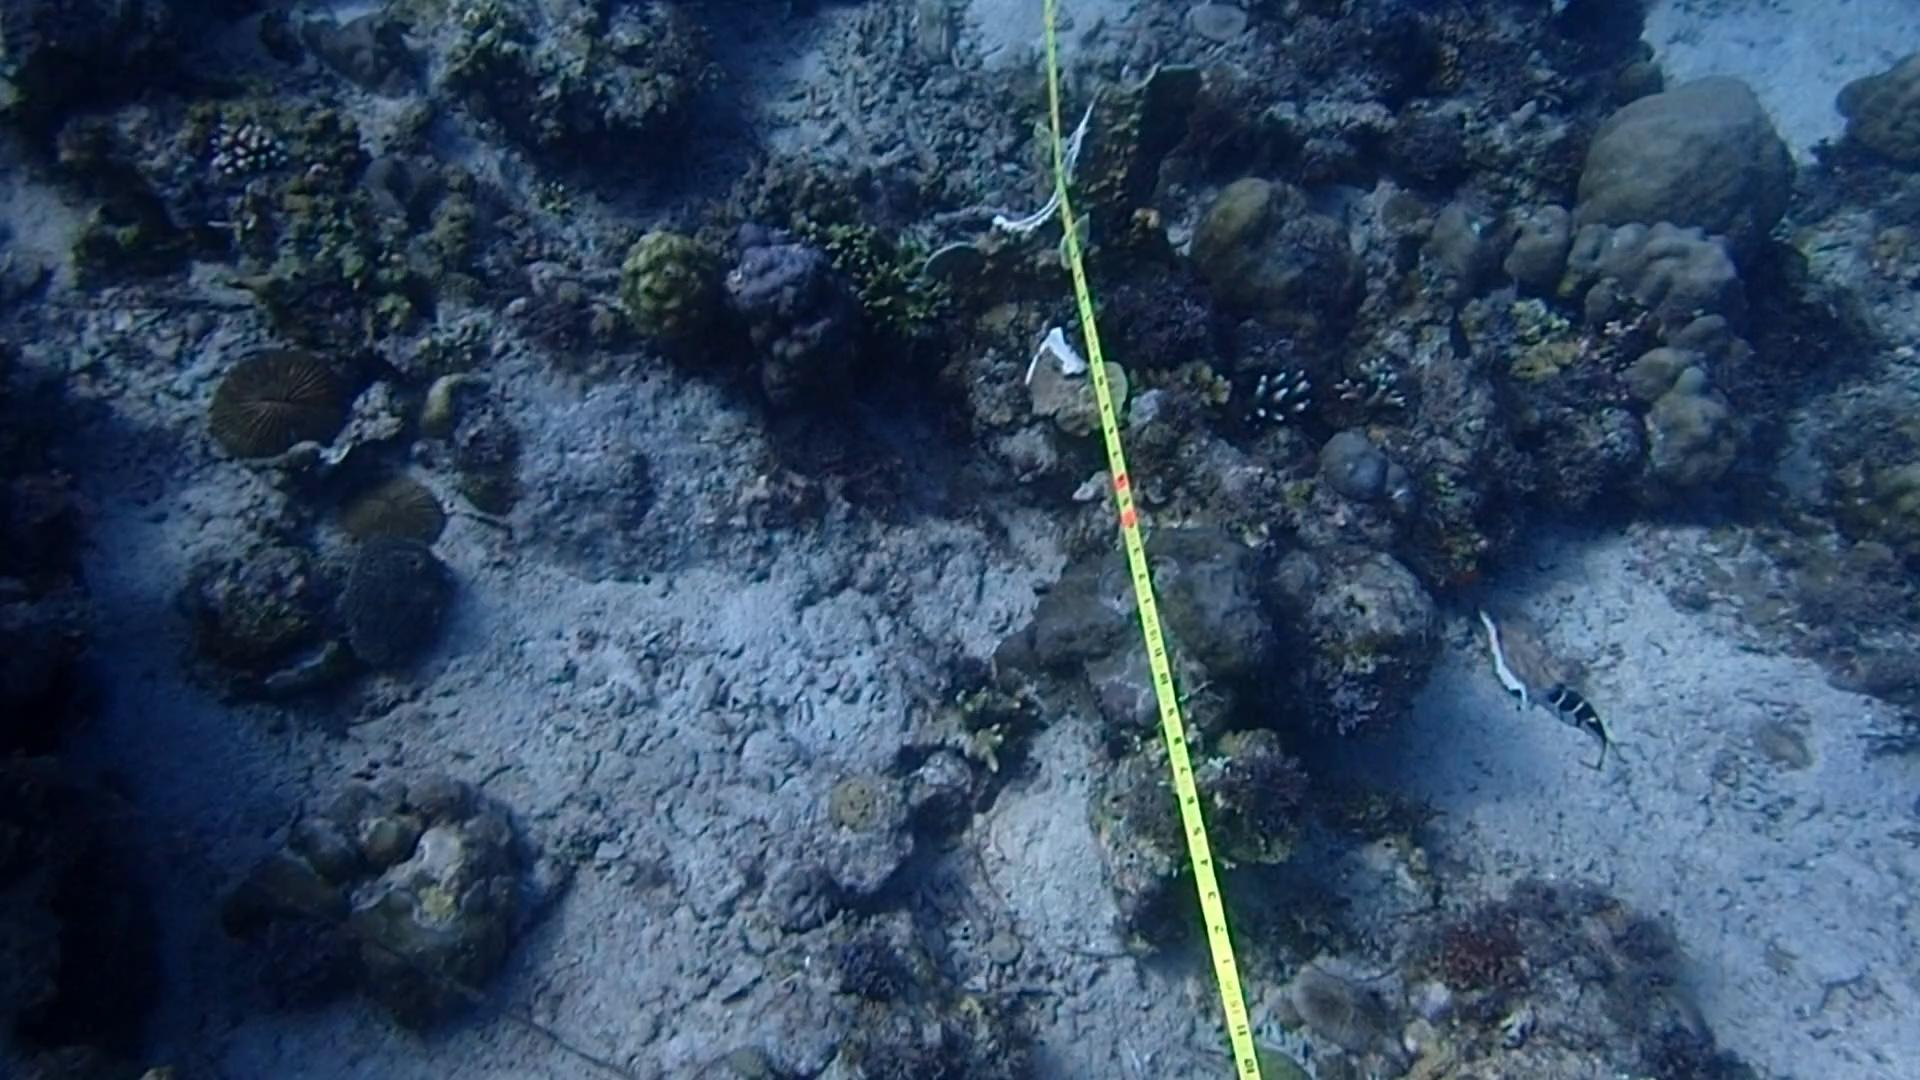Striped Fish: (1526, 663, 1627, 771)
